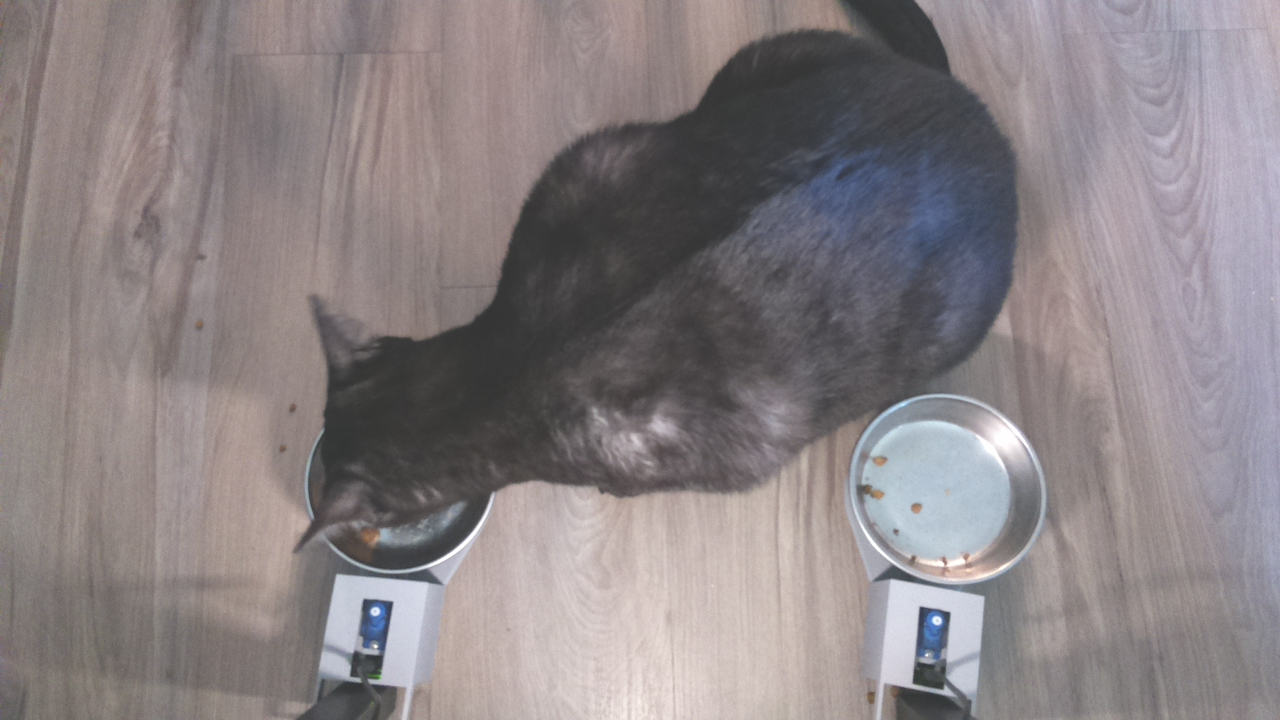open_bowl: (844, 384, 1048, 593)
saki_eating: (284, 290, 504, 573)
